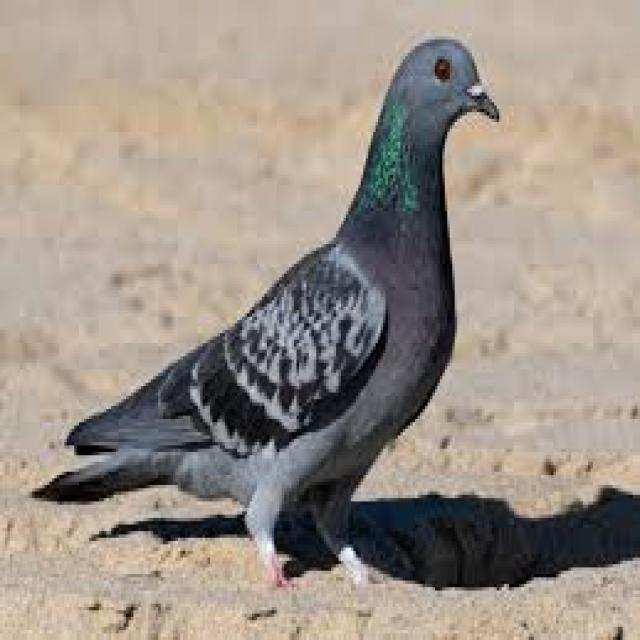pigeon: (40, 40, 497, 577)
